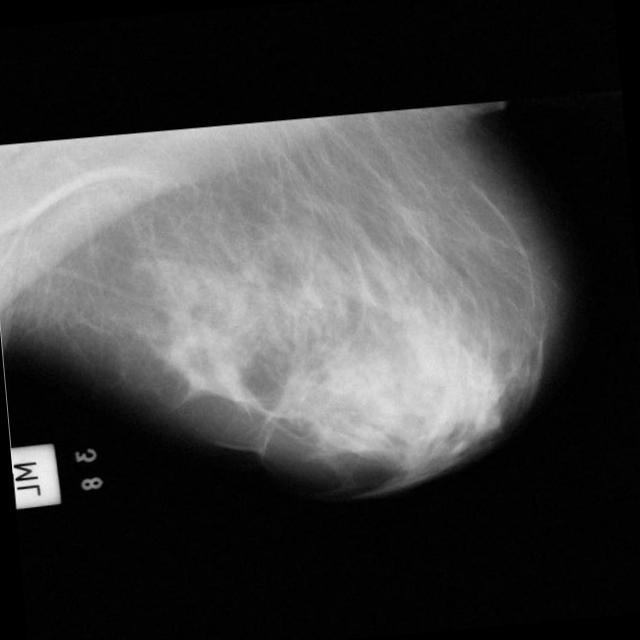SPIC: (206, 304, 384, 482)
